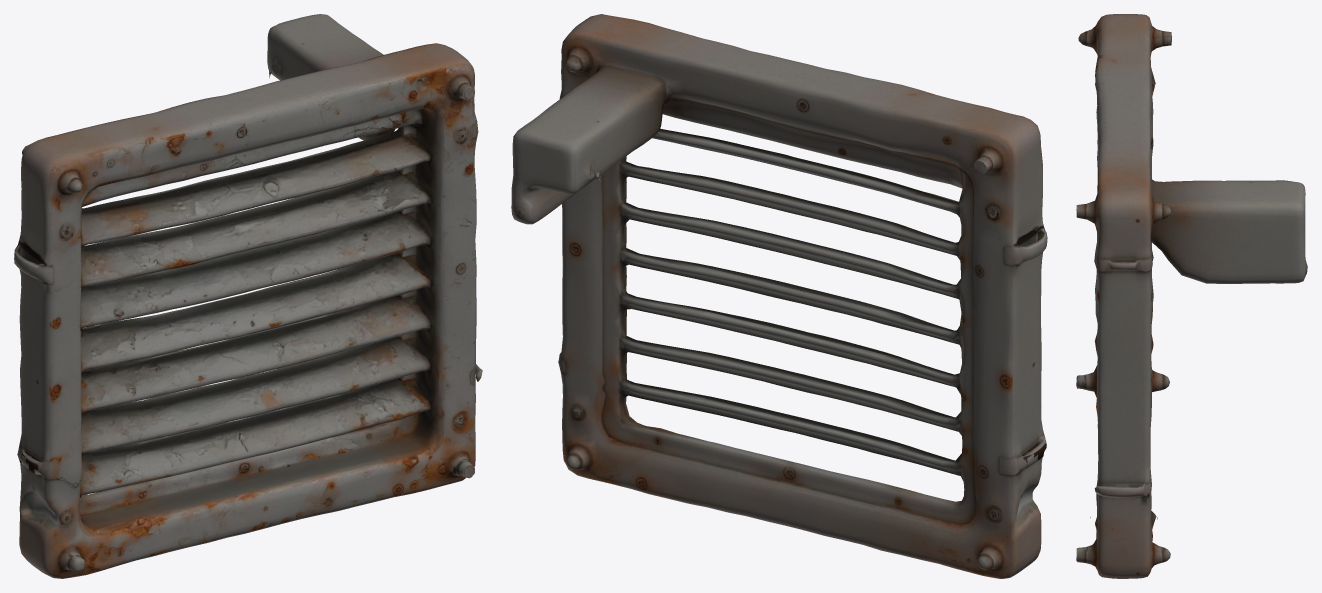
File: vent.glb
3 renders of one model, left to right at view 1: azimuth 30°, elevation 25°; view 2: azimuth 150°, elevation 25°; view 3: azimuth 270°, elevation 25°, orthographic. The views are drawn at different scales.
Parts seen in each view (by area): view 1: tripo_node_5ffa5c68-a994-4d69-977e-32e460659dc9; view 2: tripo_node_5ffa5c68-a994-4d69-977e-32e460659dc9; view 3: tripo_node_5ffa5c68-a994-4d69-977e-32e460659dc9.
Part boxes in pixels (x1,y1,x2,y2): tripo_node_5ffa5c68-a994-4d69-977e-32e460659dc9: (14,14,482,578); tripo_node_5ffa5c68-a994-4d69-977e-32e460659dc9: (511,14,1047,578); tripo_node_5ffa5c68-a994-4d69-977e-32e460659dc9: (1076,14,1307,578).
Bounding box in the file's own units: 0.9821 × 0.8794 × 0.4793.
Materials: 1 (1 with a texture image).
